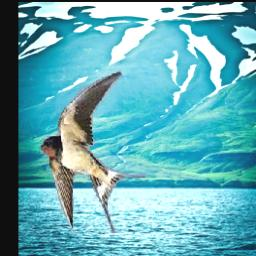Swallow: (41, 70, 145, 233)
